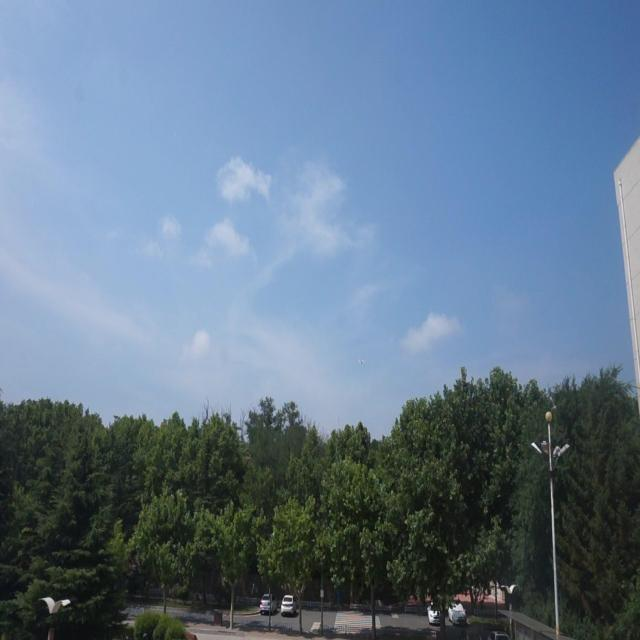drone: (356, 356, 367, 369)
